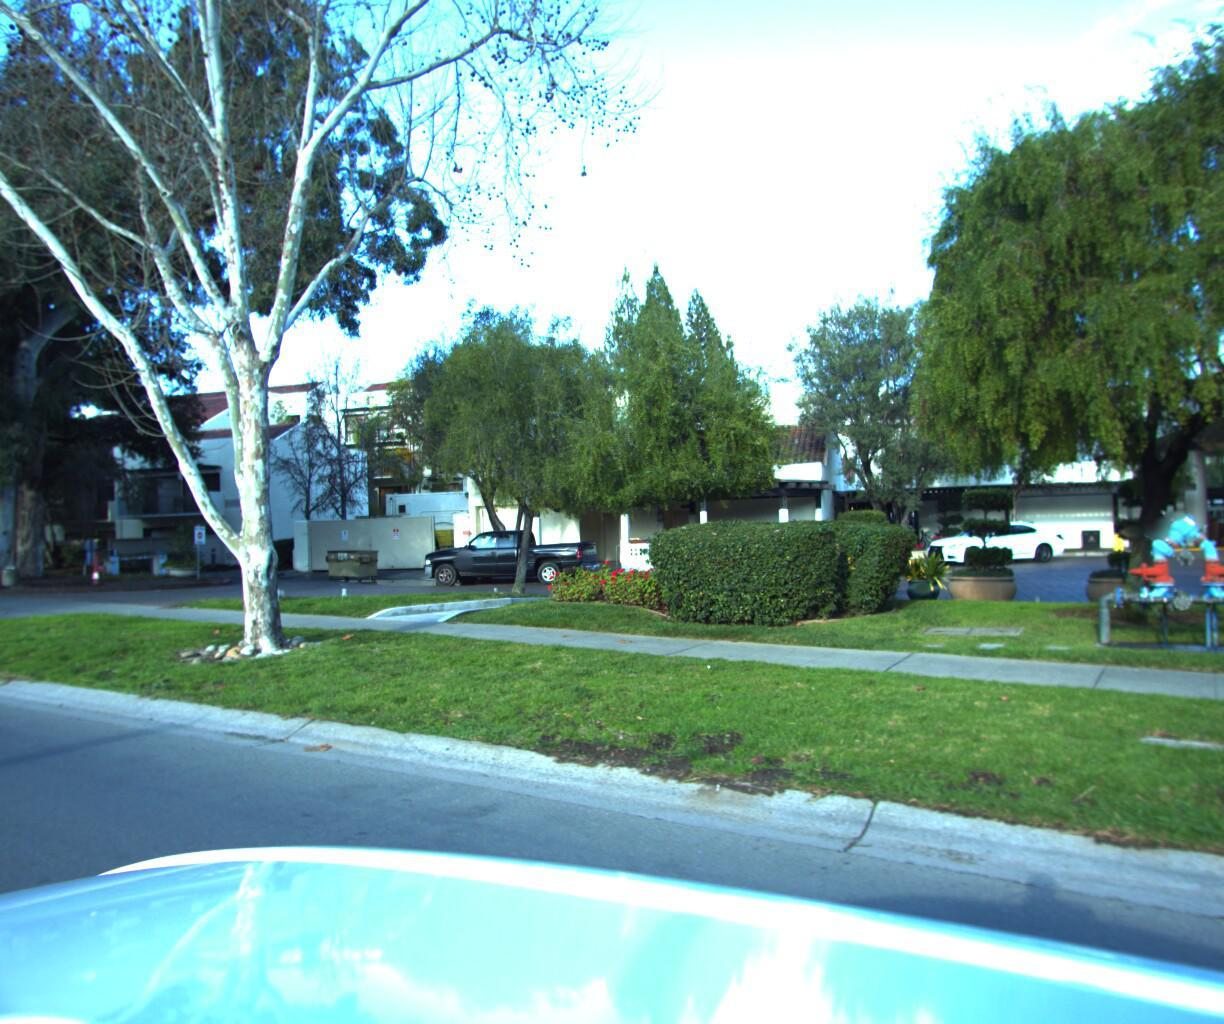car: (411, 520, 599, 583), (912, 513, 1063, 561)
